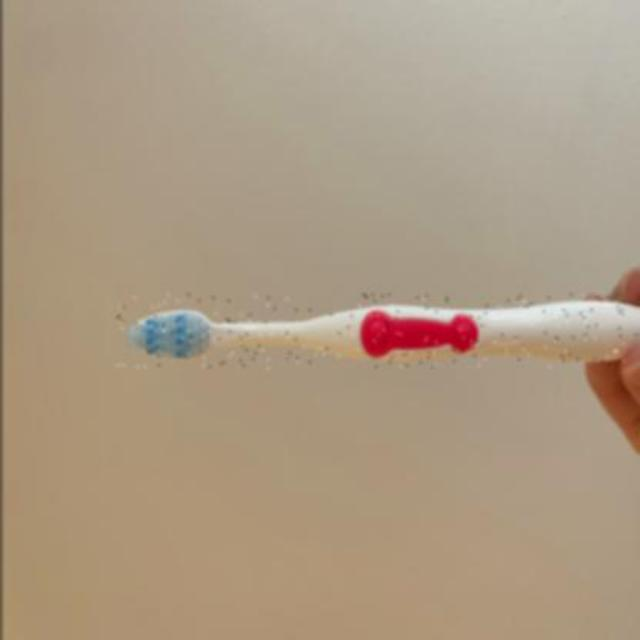toothbrush: (116, 294, 640, 370)
